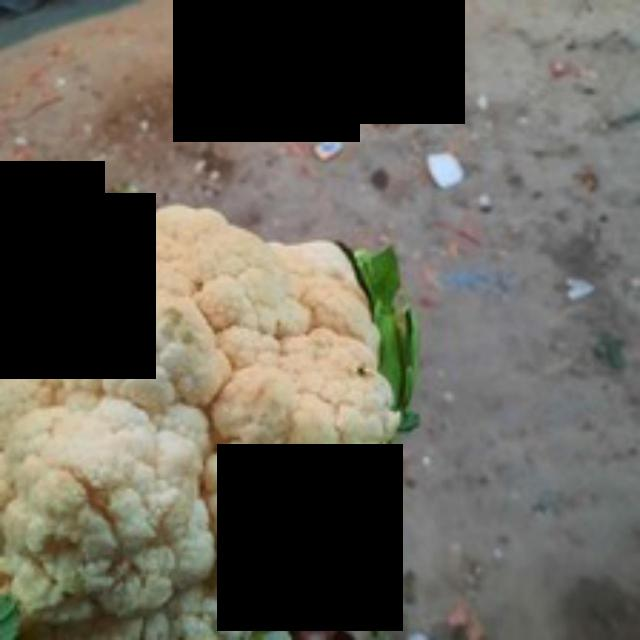cauliflower: (0, 194, 417, 637)
